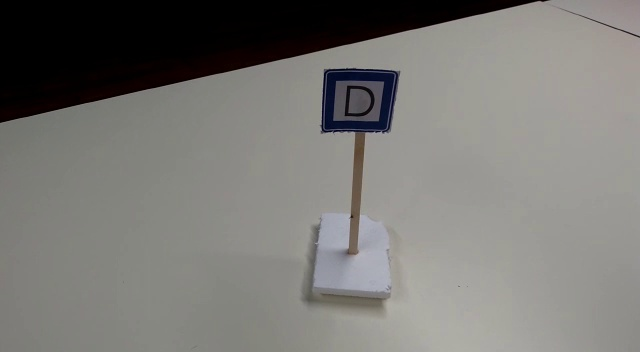durak: (322, 68, 394, 132)
